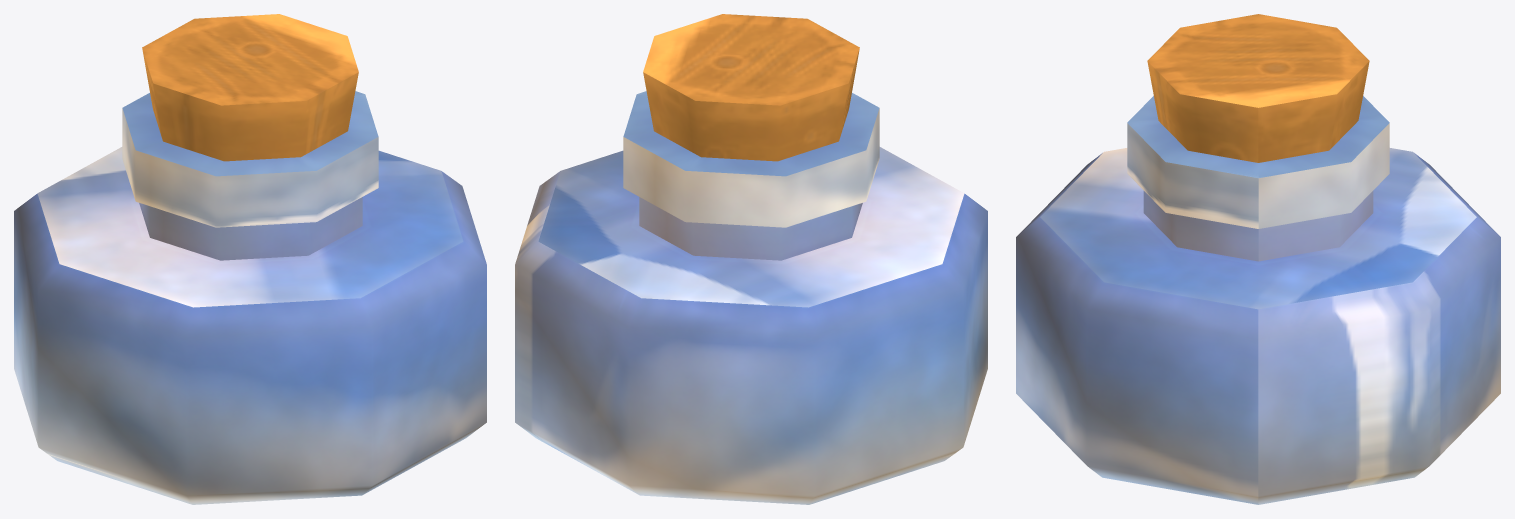
Rendered from SM_Stylized_Potion_B.fbx.
The picture shows the model from 3 angles, left to right: view 1: azimuth 30°, elevation 25°; view 2: azimuth 150°, elevation 25°; view 3: azimuth 270°, elevation 25°; orthographic projection.
Visible parts, largest first — view 1: SM_Stylized_Potion_B_LOD0; view 2: SM_Stylized_Potion_B_LOD0; view 3: SM_Stylized_Potion_B_LOD0.
Boxes of the visible parts, bbox=[...] form: SM_Stylized_Potion_B_LOD0: bbox=[14, 14, 486, 504]; SM_Stylized_Potion_B_LOD0: bbox=[515, 14, 987, 504]; SM_Stylized_Potion_B_LOD0: bbox=[1016, 14, 1500, 504].
Bounding box in the file's own units: 13.02 × 13.02 × 10.39.
